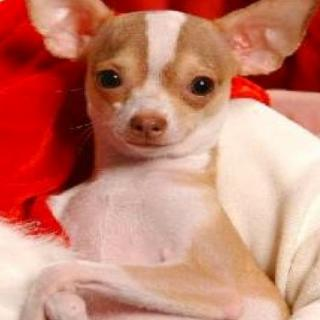dog: (15, 0, 320, 157)
nose: (128, 107, 169, 140)
